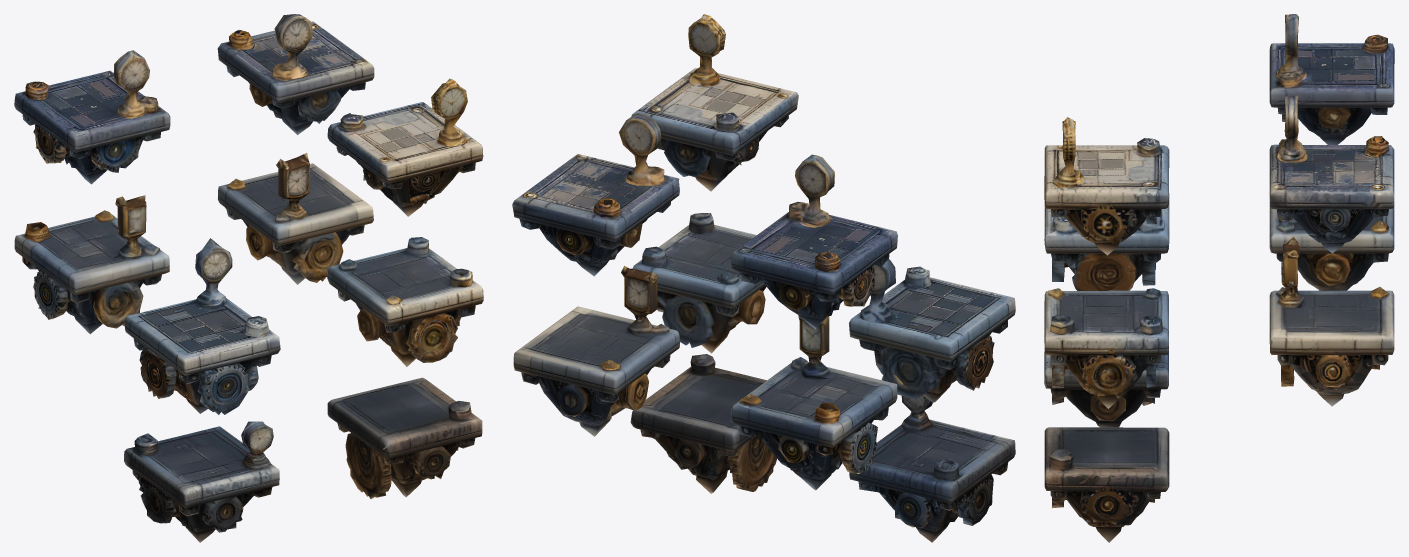
The model's file is clockPlatform.fbx.
The picture shows the model from 3 angles, left to right: view 1: azimuth 30°, elevation 25°; view 2: azimuth 150°, elevation 25°; view 3: azimuth 270°, elevation 25°; orthographic projection. The views are drawn at different scales.
Visible parts, largest first — view 1: tripo_node_f5c346f3; view 2: tripo_node_f5c346f3; view 3: tripo_node_f5c346f3.
Boxes of the visible parts, x1=… form: tripo_node_f5c346f3: x1=14, y1=14, x2=483, y2=542; tripo_node_f5c346f3: x1=512, y1=14, x2=1015, y2=542; tripo_node_f5c346f3: x1=1044, y1=14, x2=1394, y2=542.
Bounding box in the file's own units: 0.7376 × 1 × 0.727.
Materials: 1 (1 with a texture image).
